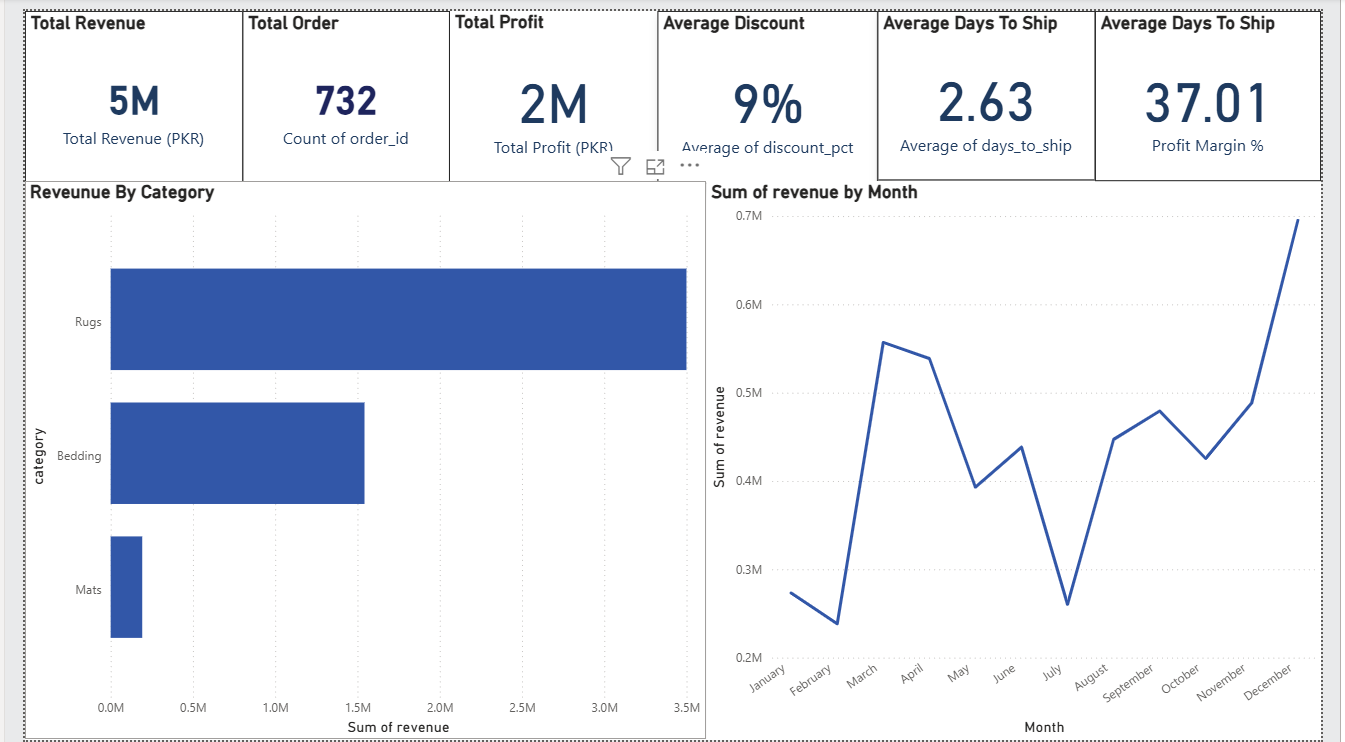

The dashboard page shown, as its layout file describes it:
{"tool":"powerbi","page":{"name":"01_executive_summary","canvas":[1280,720],"ordinal":0},"visuals":[{"type":"card","title":"Total Revenue","fields":{"Values":["Sum(arabian_homestyle_sales xlsx.revenue)"]},"box":[0,0,215,170.2],"z":0},{"type":"card","title":"Total Profit","fields":{"Values":["Sum(arabian_homestyle_sales xlsx.profit)"]},"box":[419.8,0,204.9,170.2],"z":1000},{"type":"card","title":"Total Order ","fields":{"Values":["Count(arabian_homestyle_sales xlsx.order_id)"]},"box":[215,0,204.9,170.2],"z":2000},{"type":"card","title":"Average Discount","fields":{"Values":["Avg(arabian_homestyle_sales xlsx.discount_pct)"]},"box":[624.7,0,217.9,170.2],"z":3000},{"type":"card","title":"Average Days To Ship","fields":{"Values":["Avg(arabian_homestyle_sales xlsx.days_to_ship)"]},"box":[842.6,0,215,167.4],"z":4000},{"type":"clusteredBarChart","title":"Reveunue By Category","fields":{"Category":["arabian_homestyle_sales xlsx.category"],"Y":["Sum(arabian_homestyle_sales xlsx.revenue)"]},"box":[0,167.5,672.6,552.7],"z":5000},{"type":"lineChart","fields":{"Category":["arabian_homestyle_sales xlsx.order_date.Variation.Date Hierarchy.Month"],"Y":["Sum(arabian_homestyle_sales xlsx.revenue)"]},"box":[672.6,167.5,607.7,552.7],"z":6000},{"type":"card","title":"Average Days To Ship","fields":{"Values":["arabian_homestyle_sales xlsx.Profit Margin %"]},"box":[1056.8,0,223.5,167.9],"z":6001}]}

Visuals, with their boxes in screenshot pixels (x1, y1, x2, y2), scaled from the page's 1280x720 canvas onto the 1345x742 screenshot:
"Total Revenue" card: Rect(0, 0, 226, 175)
"Total Profit" card: Rect(441, 0, 656, 175)
"Total Order " card: Rect(226, 0, 441, 175)
"Average Discount" card: Rect(656, 0, 885, 175)
"Average Days To Ship" card: Rect(885, 0, 1111, 173)
"Reveunue By Category" clusteredBarChart: Rect(0, 173, 707, 741)
lineChart - arabian_homestyle_sales xlsx.order_date.Variation.Date Hierarchy.Month x Sum(arabian_homestyle_sales xlsx.revenue): Rect(707, 173, 1344, 741)
"Average Days To Ship" card: Rect(1110, 0, 1344, 173)
